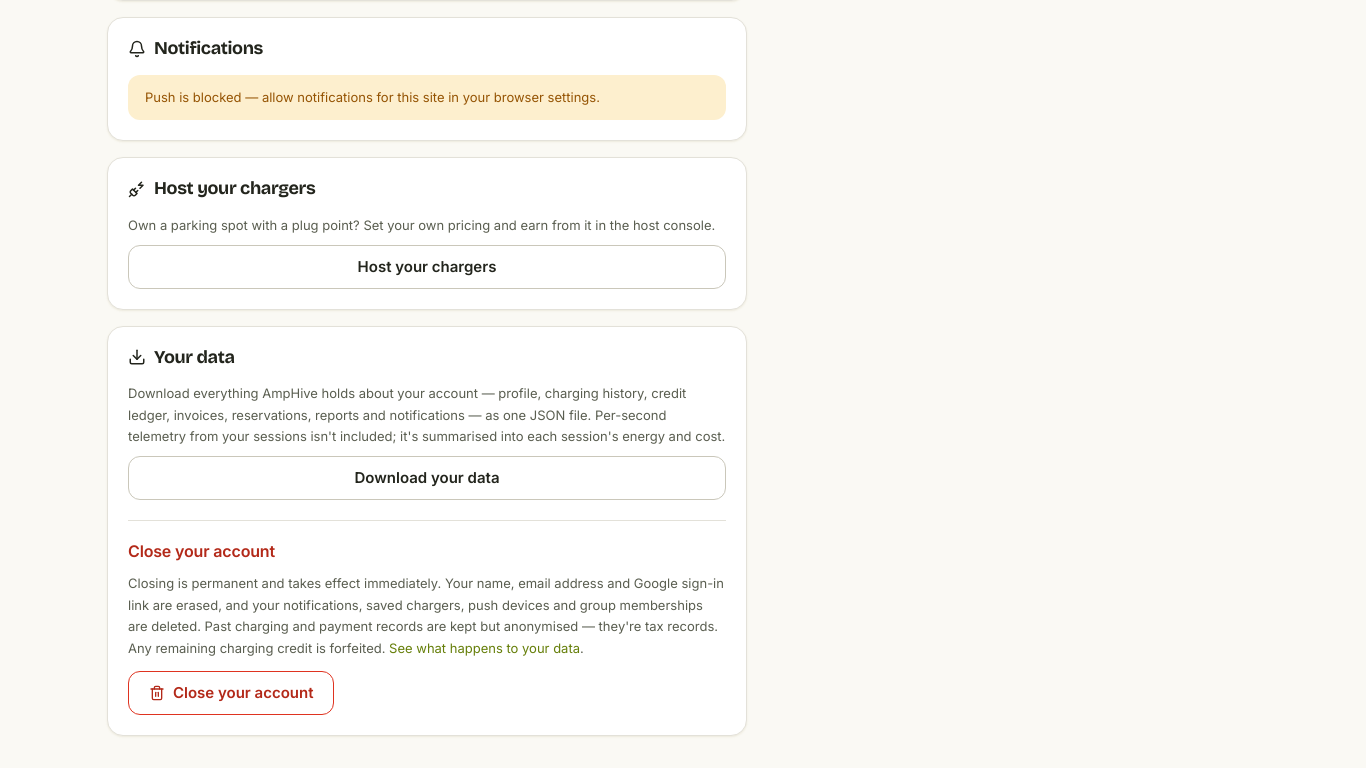
Scenario: your data — account closure › states every consequence before the confirm control
(page scrolled)
Click the button "Close your account" at x=231, y=693, box [128, 671, 334, 715]
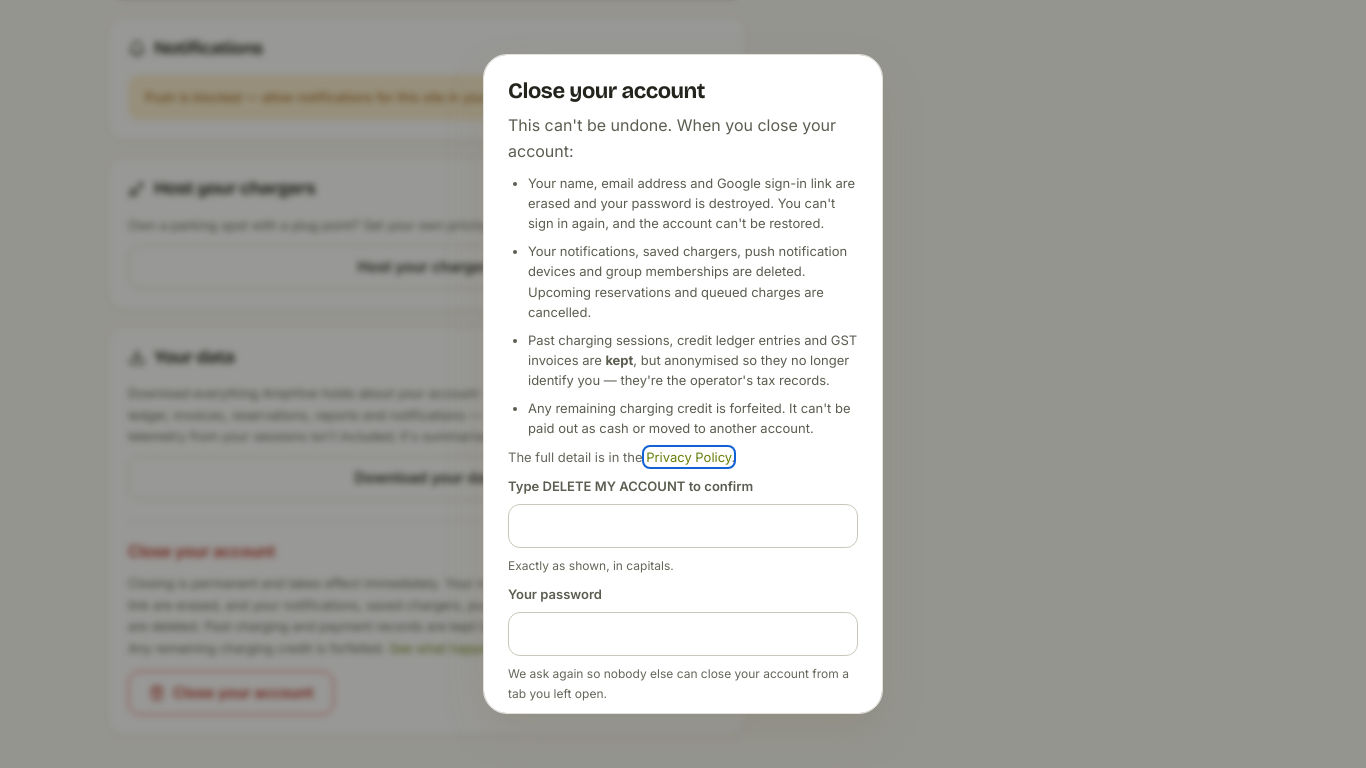
Expected: the text "This can't be undone. When you close your account:" is shown, [508, 112, 858, 165]
Expected: the list item "Google sign-in link are erased" is shown, [528, 175, 855, 231]
Expected: the 2nd list item is shown, [528, 243, 847, 320]
